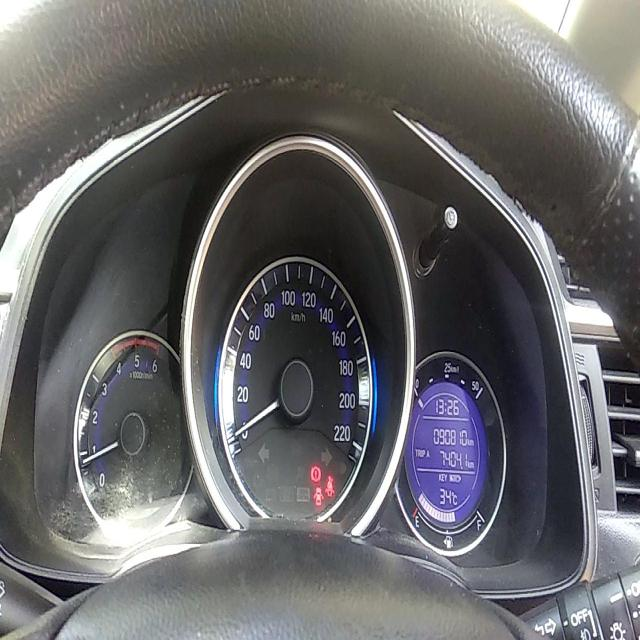odometer: (432, 423, 468, 450)
